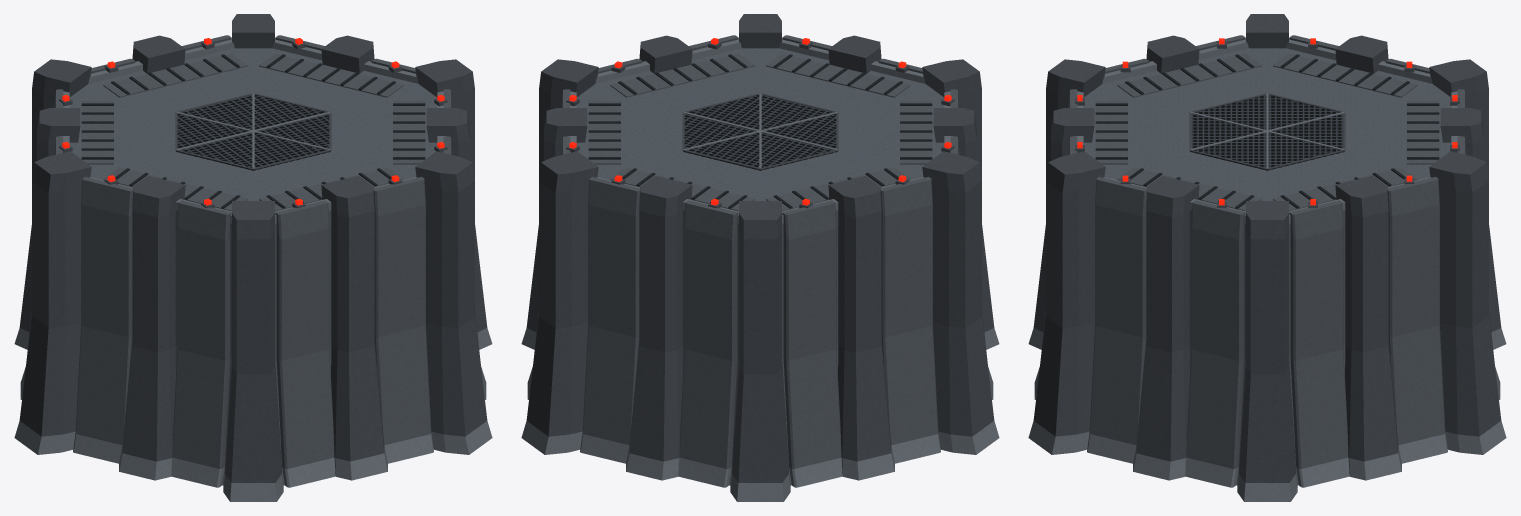
The model's file is pier.glb.
The picture shows the model from 3 angles, left to right: view 1: azimuth 30°, elevation 25°; view 2: azimuth 150°, elevation 25°; view 3: azimuth 270°, elevation 25°; orthographic projection.
Visible parts, largest first — view 1: pier-lod0-roof0, pier-lod0-base0, pier-lod0-floor0; view 2: pier-lod0-roof0, pier-lod0-base0, pier-lod0-floor0; view 3: pier-lod0-roof0, pier-lod0-base0, pier-lod0-floor0.
Part boxes in pixels (x1,y1,x2,y2): pier-lod0-roof0: [32, 14, 474, 253]; pier-lod0-base0: [14, 225, 492, 501]; pier-lod0-floor0: [32, 103, 474, 374]; pier-lod0-roof0: [539, 14, 981, 253]; pier-lod0-base0: [521, 225, 999, 501]; pier-lod0-floor0: [539, 103, 981, 374]; pier-lod0-roof0: [1046, 14, 1488, 253]; pier-lod0-base0: [1028, 225, 1506, 501]; pier-lod0-floor0: [1046, 103, 1488, 374].
Size of what is drawn, in the model's own units: 70.84 by 40.8 by 64.5.
7 materials, 7 textured.
